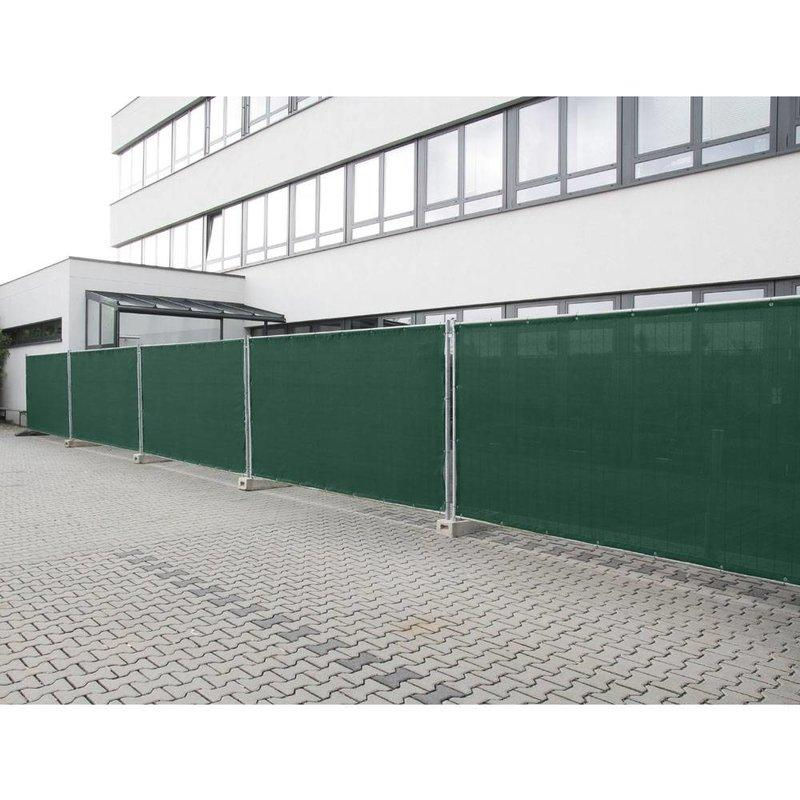obstacle: (95, 0, 800, 798)
